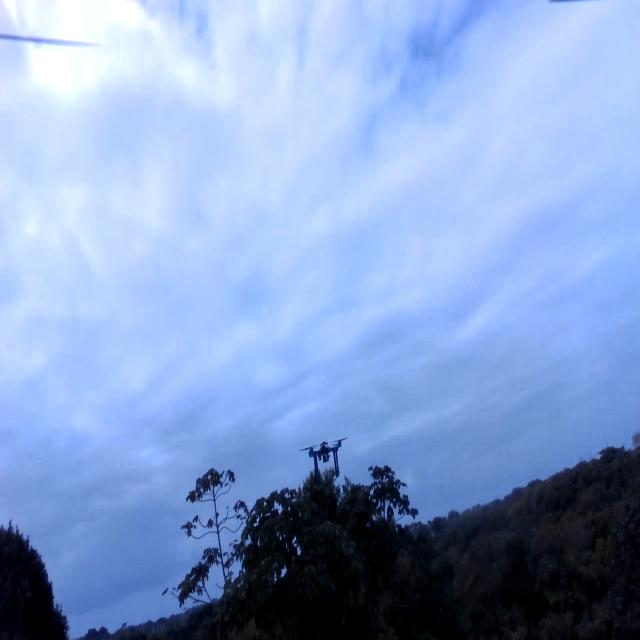-uav-: (296, 431, 351, 485)
